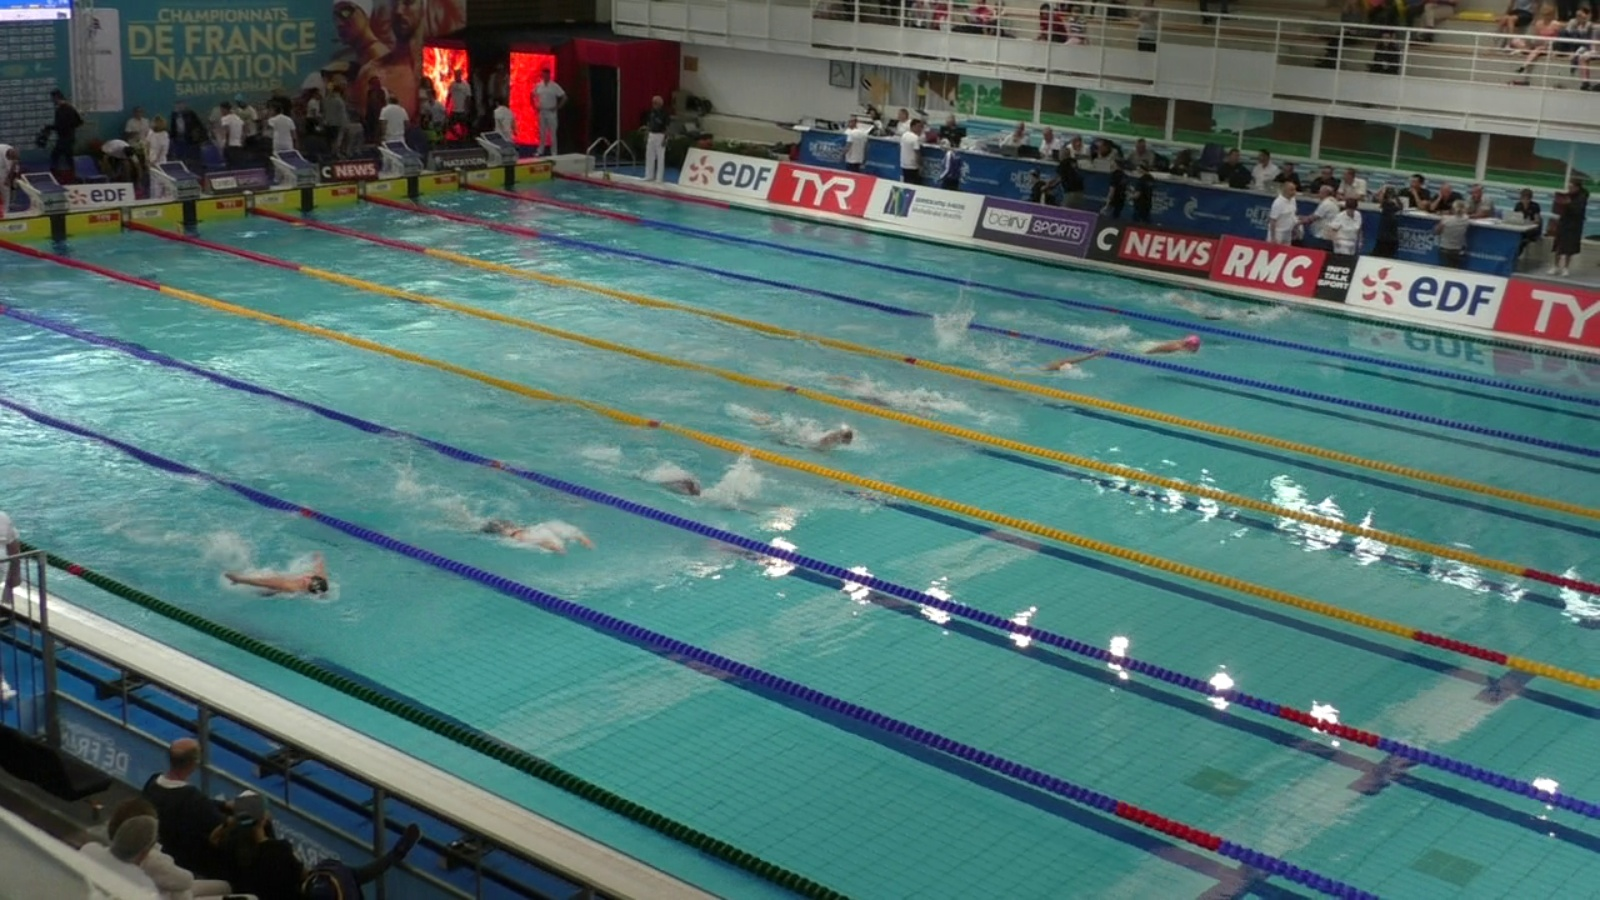swimmerw: (457, 508, 602, 556), (634, 479, 787, 523), (211, 555, 338, 607), (835, 377, 965, 421), (746, 419, 853, 455), (1167, 293, 1263, 324), (1116, 335, 1205, 359), (1021, 352, 1103, 377)
